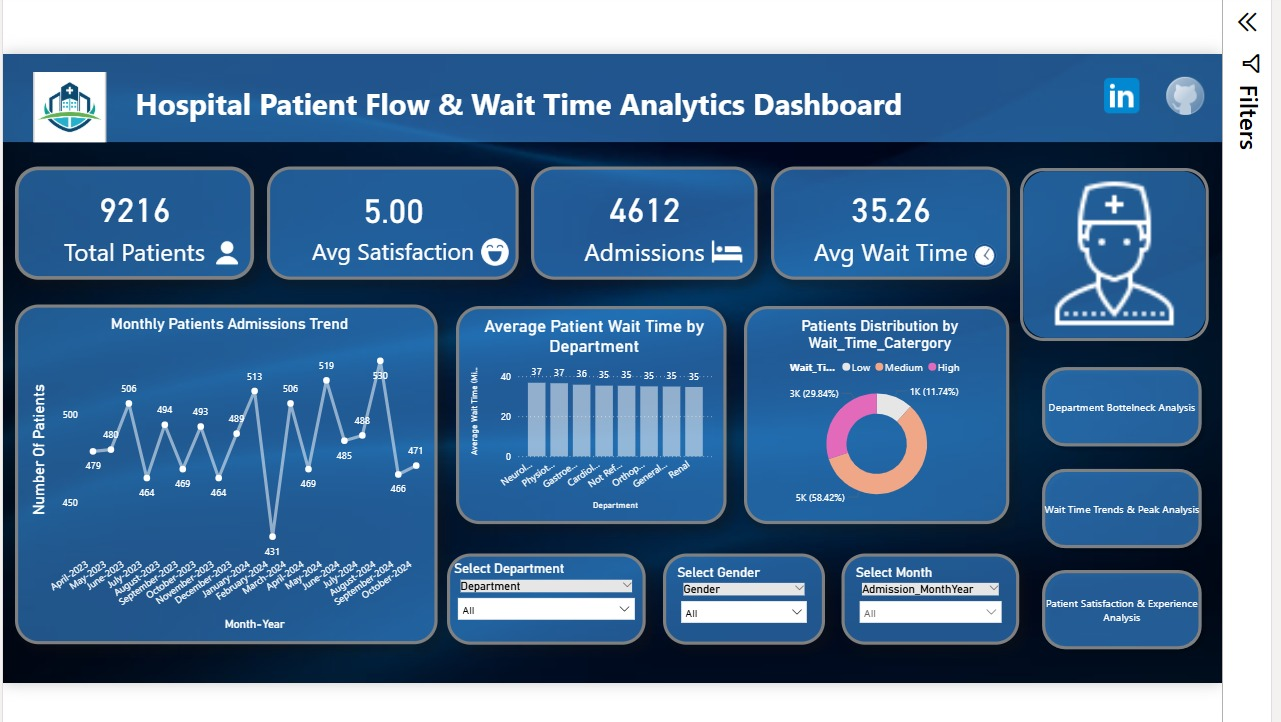

What the dashboard file says about the page in this screenshot:
{"tool":"powerbi","page":{"name":"Patient_Flow_Overview","canvas":[1550,801],"ordinal":0},"visuals":[{"type":"shape","box":[-2,0,1552,112],"z":0},{"type":"textbox","box":[131.1,31.5,1049.1,101],"z":1000},{"type":"lineChart","title":"Monthly Patients Admissions Trend ","fields":{"Category":["Hospital_Patient_Data.Admission_MonthYear"],"Y":["Hospital_Patient_Data.Total Patients"]},"box":[15.5,319,537.3,432],"z":2000},{"type":"clusteredColumnChart","title":"Average Patient Wait Time by Department","fields":{"Category":["Hospital_Patient_Data.Department"],"Y":["Hospital_Patient_Data.Avg Wait Time"]},"box":[576,320.5,343.8,277.2],"z":3000},{"type":"donutChart","title":"Patients Distribution by Wait_Time_Catergory","fields":{"Category":["Hospital_Patient_Data.Wait_Time_Category"],"Y":["Hospital_Patient_Data.Total Patients"]},"box":[943,320.5,337.6,277.2],"z":4000},{"type":"slicer","title":"Select Department","fields":{"Values":["Hospital_Patient_Data.Department"]},"box":[563.6,634.9,252.4,116.1],"z":5000},{"type":"slicer","title":"Select Month","fields":{"Values":["Hospital_Patient_Data.Admission_MonthYear"]},"box":[1066.9,634.9,226.1,116.1],"z":6000},{"type":"slicer","title":"Select Gender","fields":{"Values":["Hospital_Patient_Data.Gender"]},"box":[839.3,634.9,205.9,116.1],"z":7000},{"type":"card","fields":{"Values":["Hospital_Patient_Data.Avg Wait Time"]},"box":[976,144,304,144],"z":8000},{"type":"card","fields":{"Values":["Hospital_Patient_Data.Total Patients"]},"box":[16,144,304,144],"z":9000},{"type":"card","fields":{"Values":["Hospital_Patient_Data.Avg Satisfaction"]},"box":[336,144,320,144],"z":10000},{"type":"card","fields":{"Values":["Hospital_Patient_Data.Admissions"]},"box":[672,144,288,144],"z":11000},{"type":"image","box":[38,22.3,93.1,89.2],"z":12000},{"type":"image","box":[605.8,233.4,38,38],"z":13000},{"type":"image","box":[1232,240,32,32],"z":14000},{"type":"pageNavigator","box":[1311.3,389.5,221.6,377.7],"z":15000},{"type":"image","box":[895.6,224.2,48.5,44.6],"z":16000},{"type":"image","box":[1293,144.2,240,220.3],"z":17000},{"type":"image","box":[261,224.2,47.2,44.6],"z":18000},{"type":"image","box":[1475.3,22.3,57.7,60.3],"z":18001},{"type":"image","box":[1388.7,22.3,68.2,60.3],"z":18002}]}

Visuals, with their boxes on the page's 1550x801 design canvas (x1, y1, x2, y2). These are canvas units, not pixel positions in the 1281x722 screenshot, which may show the page scaled, cropped or inside an application window:
shape: detection(-2, 0, 1550, 112)
textbox: detection(131, 32, 1180, 132)
"Monthly Patients Admissions Trend " lineChart: detection(16, 319, 553, 751)
"Average Patient Wait Time by Department" clusteredColumnChart: detection(576, 320, 920, 598)
"Patients Distribution by Wait_Time_Catergory" donutChart: detection(943, 320, 1281, 598)
"Select Department" slicer: detection(564, 635, 816, 751)
"Select Month" slicer: detection(1067, 635, 1293, 751)
"Select Gender" slicer: detection(839, 635, 1045, 751)
card - Hospital_Patient_Data.Avg Wait Time: detection(976, 144, 1280, 288)
card - Hospital_Patient_Data.Total Patients: detection(16, 144, 320, 288)
card - Hospital_Patient_Data.Avg Satisfaction: detection(336, 144, 656, 288)
card - Hospital_Patient_Data.Admissions: detection(672, 144, 960, 288)
image: detection(38, 22, 131, 112)
image: detection(606, 233, 644, 271)
image: detection(1232, 240, 1264, 272)
pageNavigator: detection(1311, 390, 1533, 767)
image: detection(896, 224, 944, 269)
image: detection(1293, 144, 1533, 364)
image: detection(261, 224, 308, 269)
image: detection(1475, 22, 1533, 83)
image: detection(1389, 22, 1457, 83)
